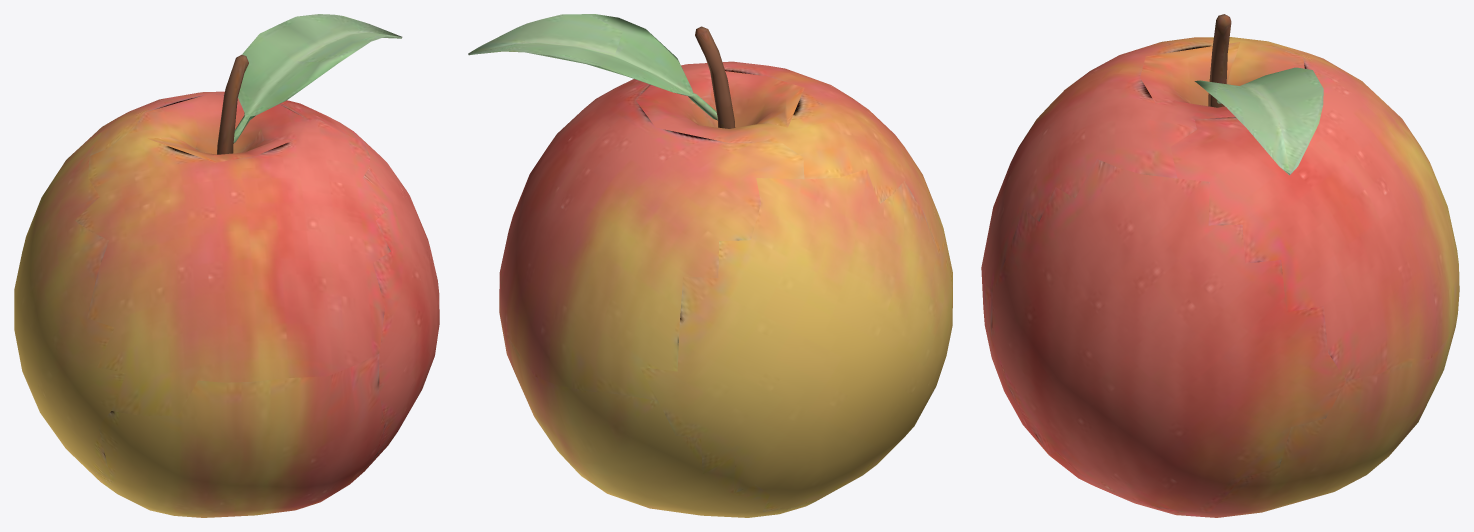
Rendered from food-apple.glb.
3 views of the same model, side by side, from view 1: azimuth 30°, elevation 25°; view 2: azimuth 150°, elevation 25°; view 3: azimuth 270°, elevation 25° (orthographic). The views are drawn at different scales.
Parts seen in each view (by area): view 1: apple_body; view 2: apple_body; view 3: apple_body.
Boxes of the visible parts, box(x1,y1,x2,y2) form: apple_body: box(14, 14, 439, 517); apple_body: box(468, 14, 952, 517); apple_body: box(981, 14, 1459, 517).
Bounding box in the file's own units: 2.99 × 3 × 2.8.
Materials: 1 (1 with a texture image).
